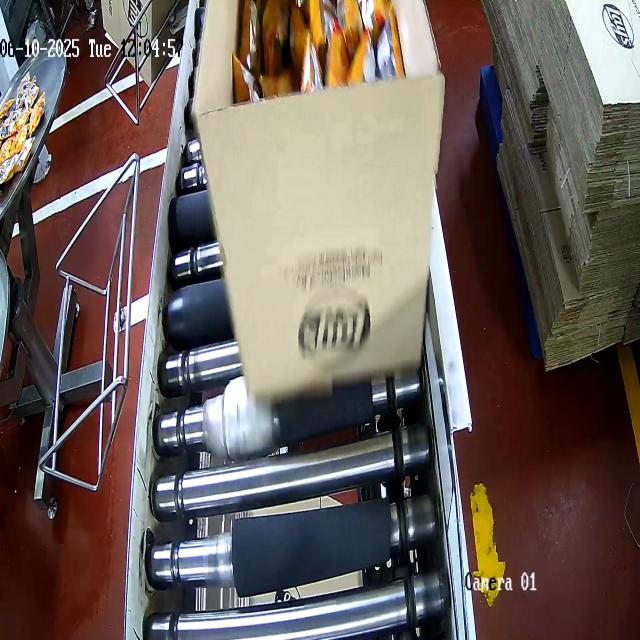FRENCH_CHEESE: (232, 0, 403, 101)
